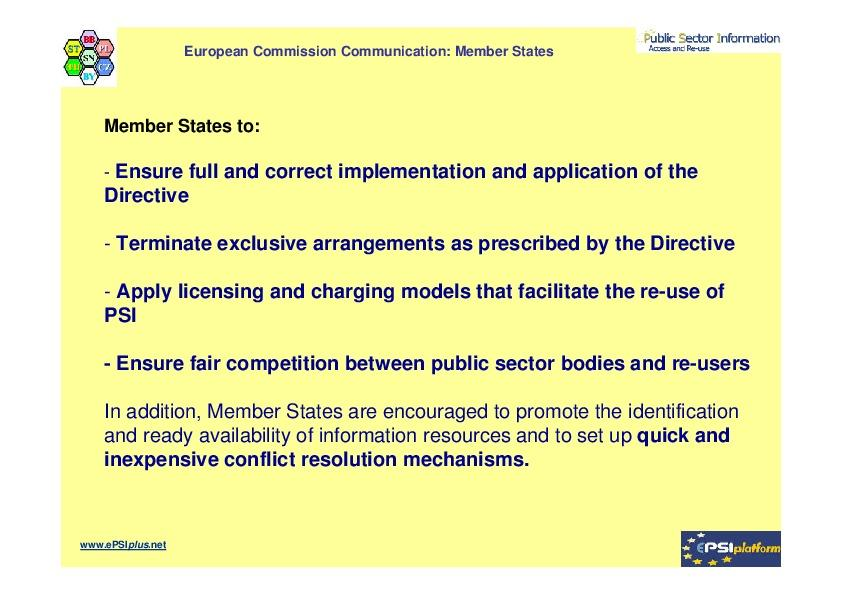paragraph: (84, 148, 788, 508)
subtitle: (95, 100, 273, 152), (69, 527, 178, 561)
title: (176, 27, 786, 78)
